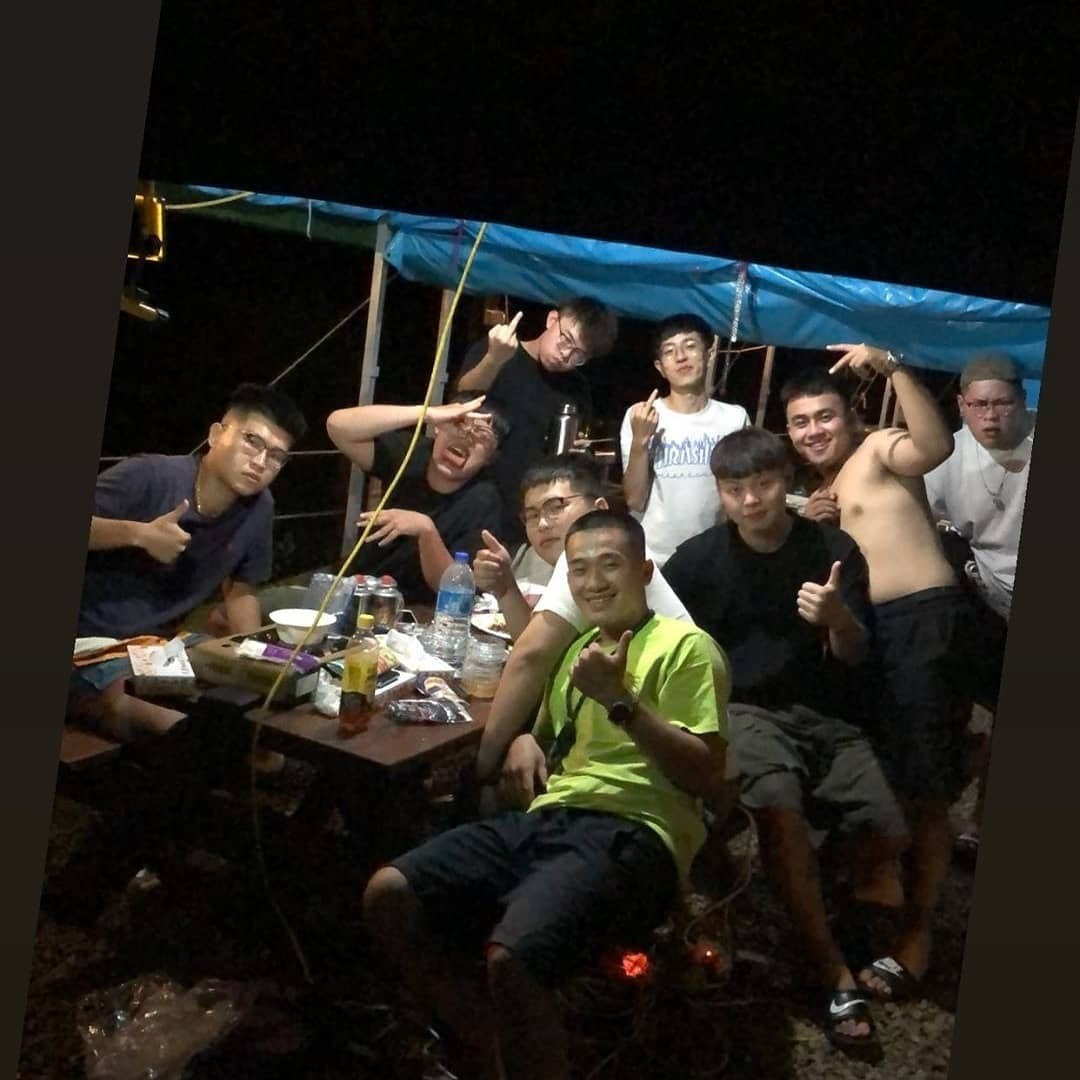people: (539, 513, 727, 913), (691, 430, 863, 813), (132, 373, 298, 628), (787, 382, 949, 595), (927, 356, 1036, 621), (622, 316, 741, 545), (372, 402, 510, 590), (487, 301, 615, 447)
